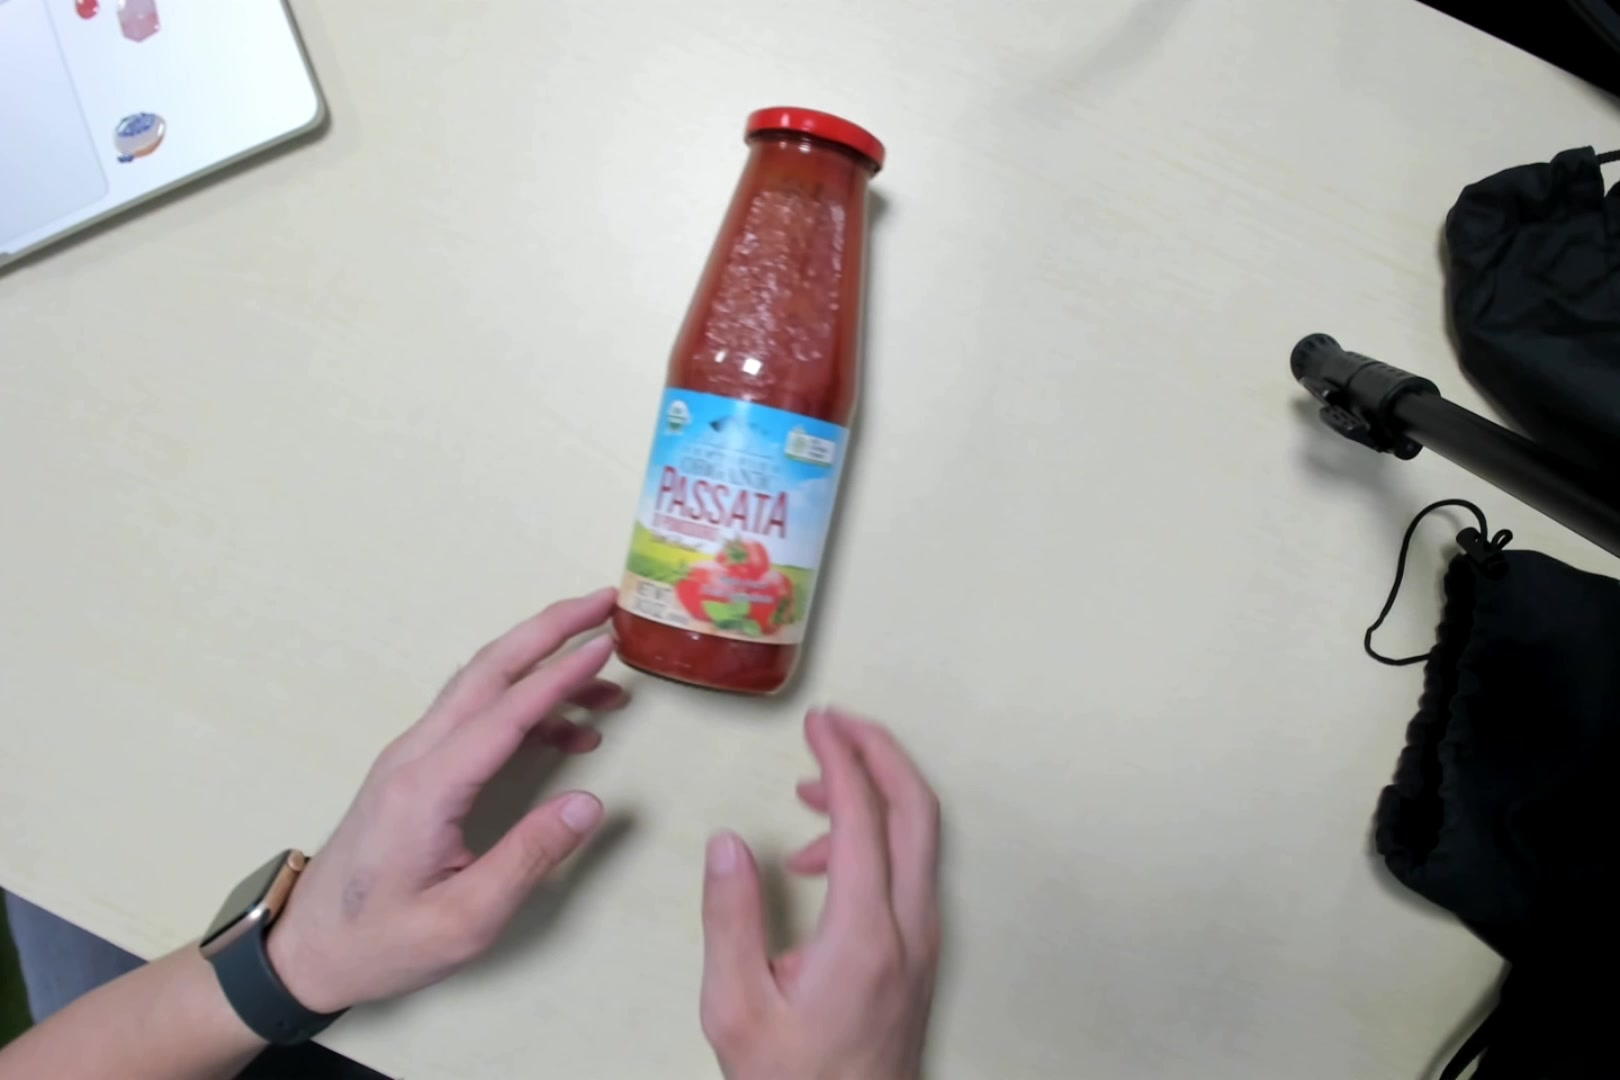PastaSauce_600-699g_NonHalal_NonHealthy: (609, 98, 891, 702)
